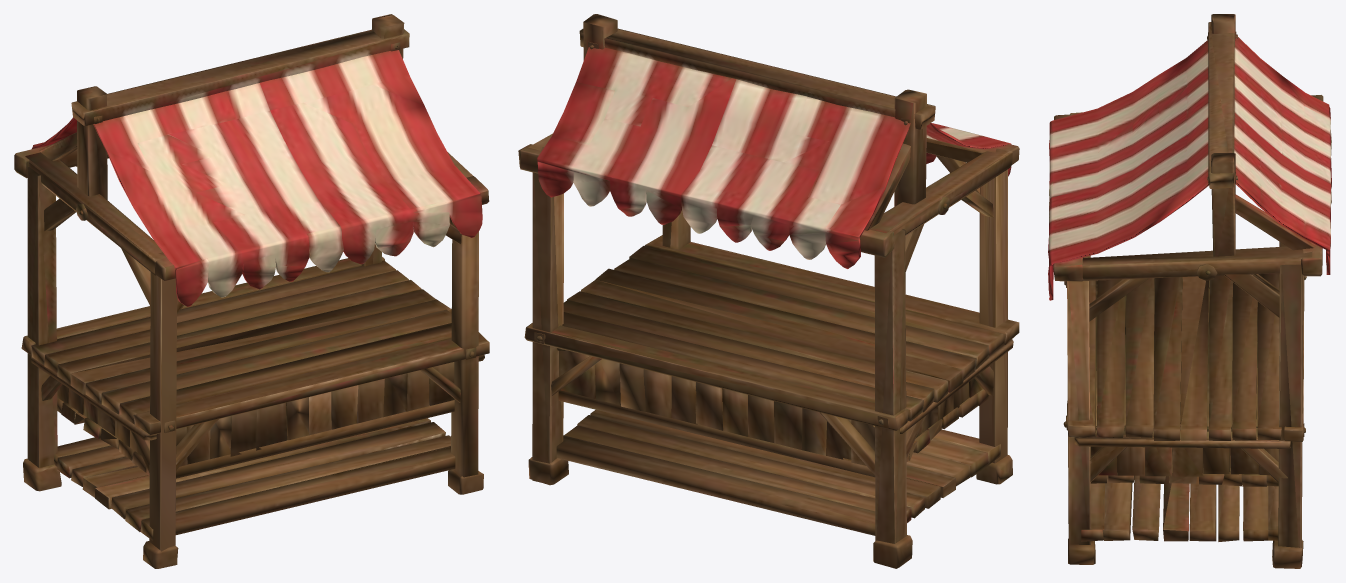
The model's file is kit_market_stall.glb.
3 renders of one model, left to right at view 1: azimuth 30°, elevation 25°; view 2: azimuth 150°, elevation 25°; view 3: azimuth 270°, elevation 25°, orthographic. The views are drawn at different scales.
Visible parts, largest first — view 1: mesh_node; view 2: mesh_node; view 3: mesh_node.
Boxes of the visible parts, x1,y1,x2,y2 form: mesh_node: (14, 14, 489, 568); mesh_node: (518, 14, 1019, 568); mesh_node: (1048, 14, 1331, 568).
Bounding box in the file's own units: 0.0315 × 0.035 × 0.0226.
Materials: 1 (1 with a texture image).
